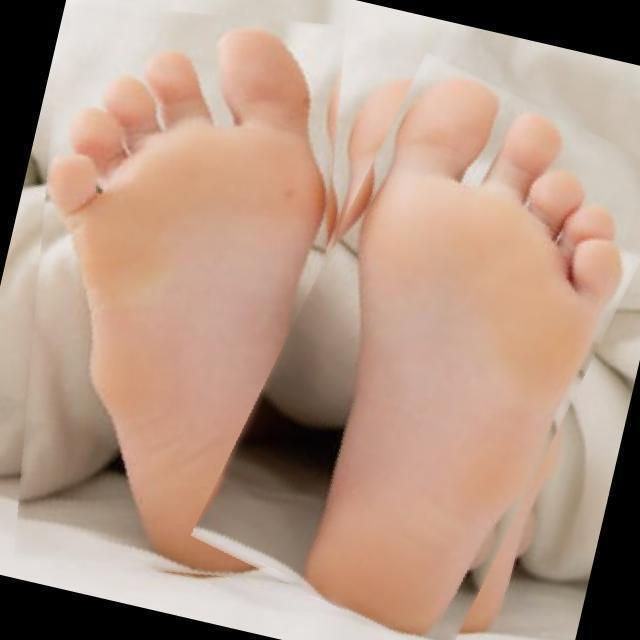No_Shoes: (343, 63, 628, 634), (33, 59, 322, 551)
